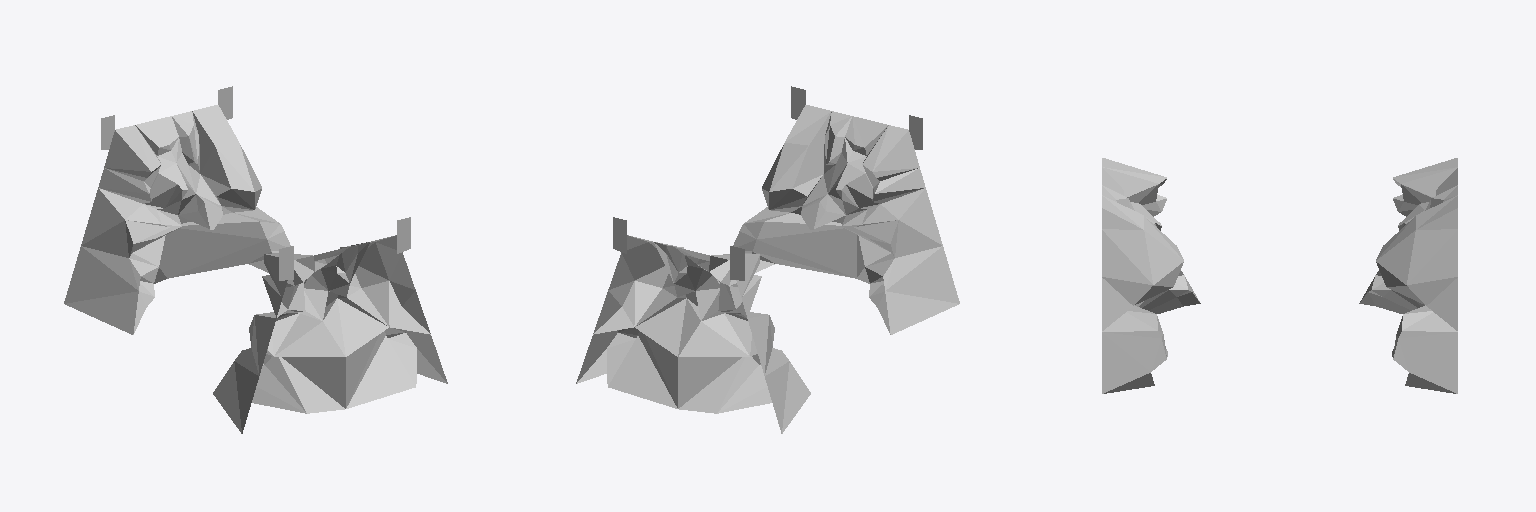
The model's file is templeStraightHoleVert_prefab.obj.
3 renders of one model, left to right at view 1: azimuth 30°, elevation 25°; view 2: azimuth 150°, elevation 25°; view 3: azimuth 270°, elevation 25°, orthographic.
Visible parts, largest first — view 1: Object21-Pivot; view 2: Object21-Pivot; view 3: Object21-Pivot.
Boxes of the visible parts, x1=… form: Object21-Pivot: x1=64, y1=86, x2=447, y2=433; Object21-Pivot: x1=576, y1=86, x2=959, y2=433; Object21-Pivot: x1=1102, y1=158, x2=1457, y2=393.
Bounding box in the file's own units: 40 × 32.72 × 60.02.